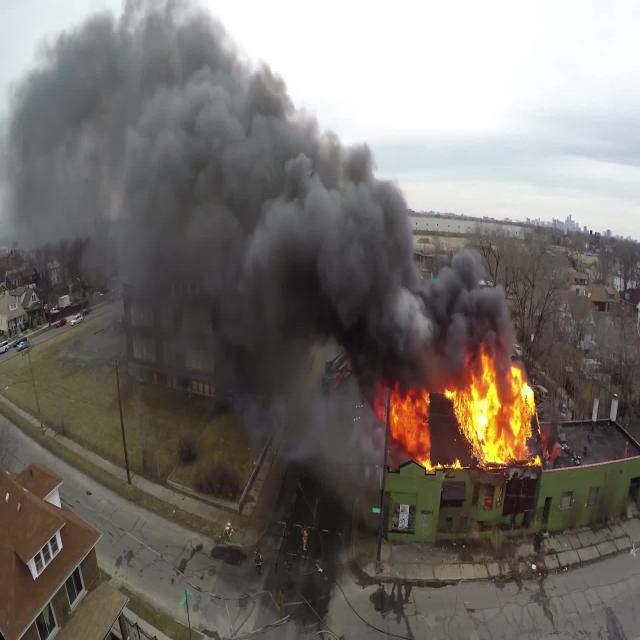fire: (464, 377, 528, 463)
smoke: (115, 66, 317, 337), (320, 177, 402, 331), (408, 277, 512, 363)
